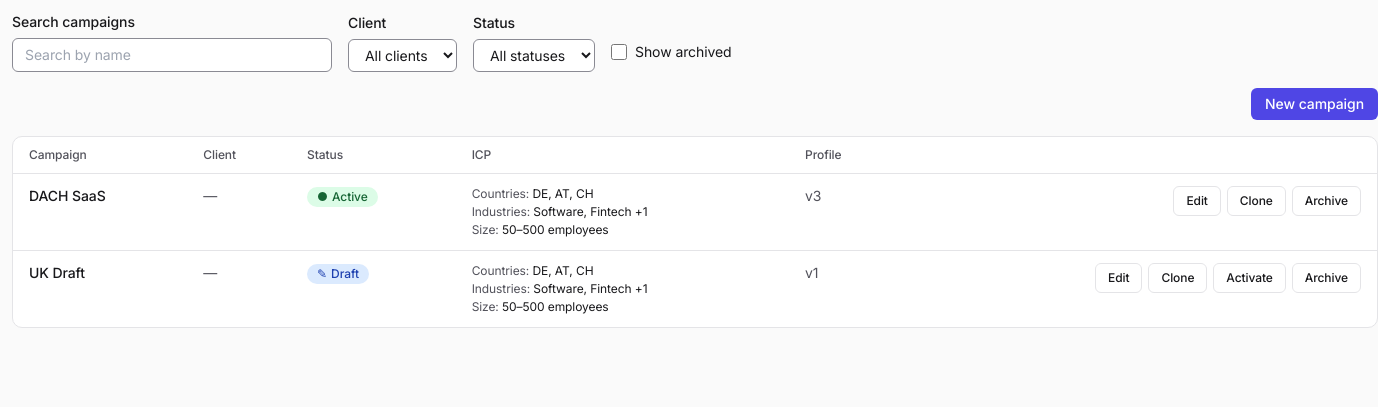
CampaignList › activates a draft; active campaigns have no Activate button
The image size is (1378, 407).
Expected: the text "DACH SaaS" is shown, [29,187,106,204]
Click the button with aria-label "Activate UK Draft" at {"x": 1250, "y": 278}, box [1213,263,1286,293]
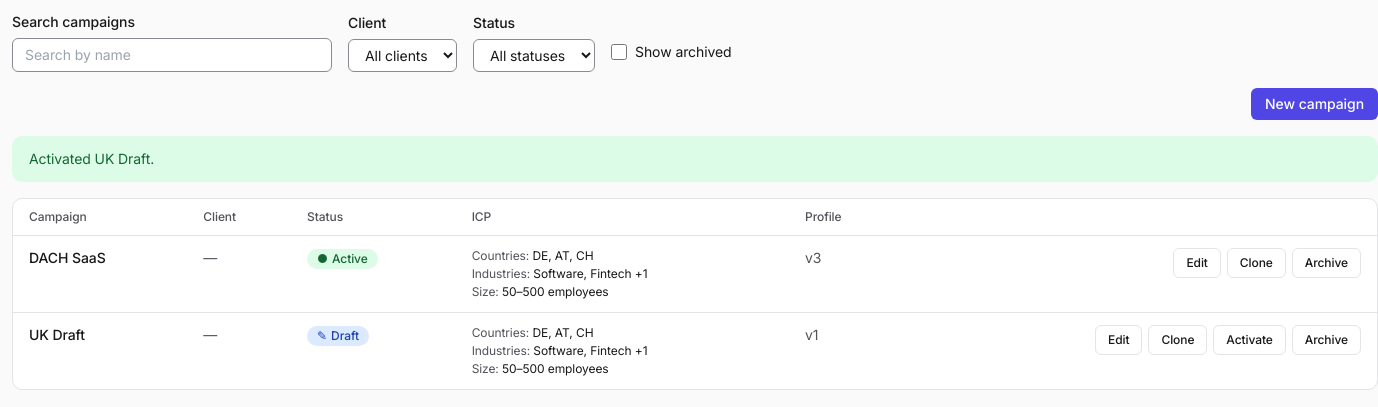
Now the text "Activated UK Draft." is shown, box [29,149,154,169]
